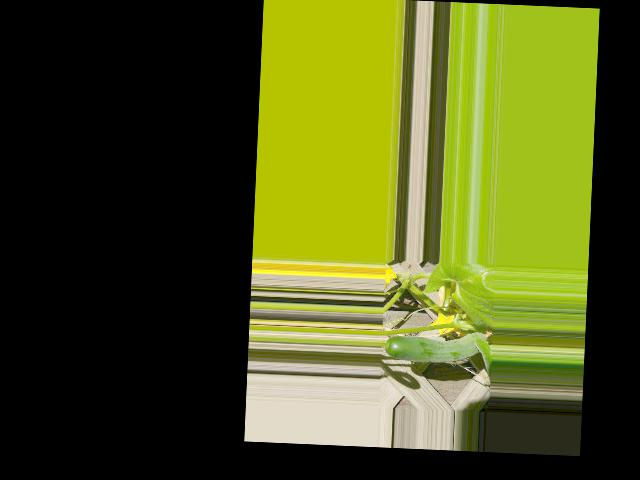cucumber: (385, 328, 492, 365)
